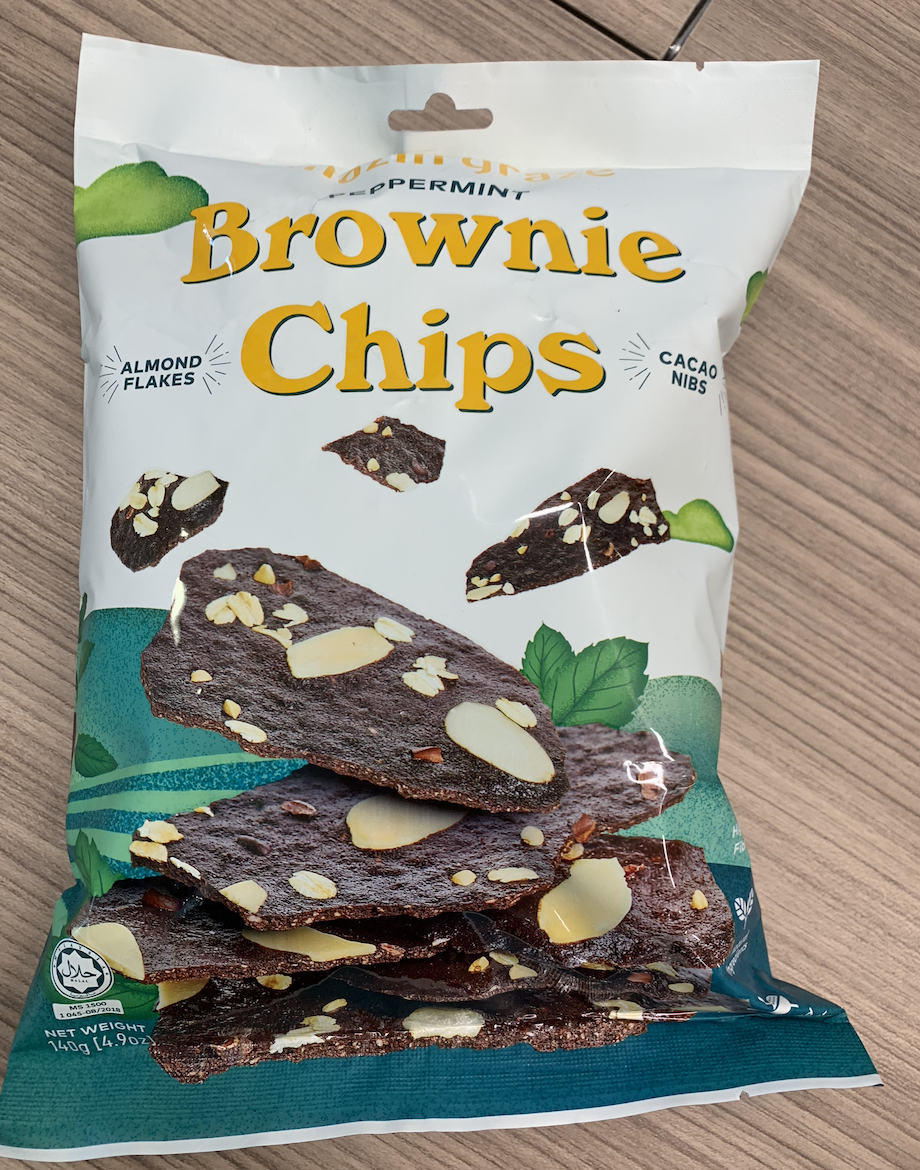cookies_100g-199g: (77, 168, 724, 1051)
